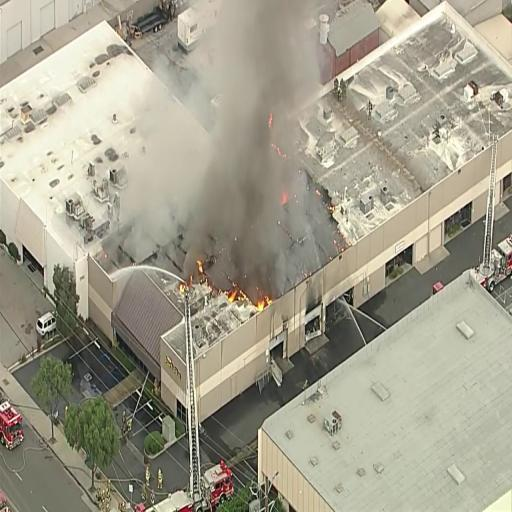smoke: (212, 0, 290, 224)
